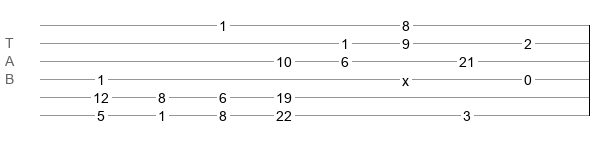0: (524, 72, 532, 82)
1: (97, 72, 105, 82), (158, 108, 166, 118), (219, 18, 227, 28), (341, 36, 349, 46)
10: (276, 54, 292, 64)
12: (93, 90, 109, 100)
19: (276, 90, 292, 100)
2: (524, 36, 532, 46)
21: (459, 54, 475, 64)
22: (276, 108, 292, 118)
3: (463, 108, 471, 118)
5: (97, 108, 105, 118)
6: (219, 90, 227, 100), (341, 54, 349, 64)
8: (158, 90, 166, 100), (219, 108, 227, 118), (402, 18, 410, 28)
9: (402, 36, 410, 46)
x: (402, 73, 409, 81)
